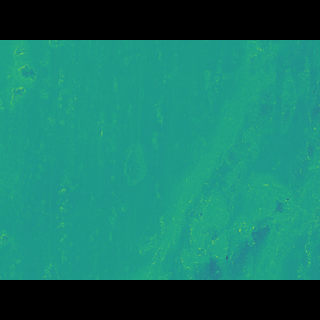Loch: (132, 69, 320, 248)
